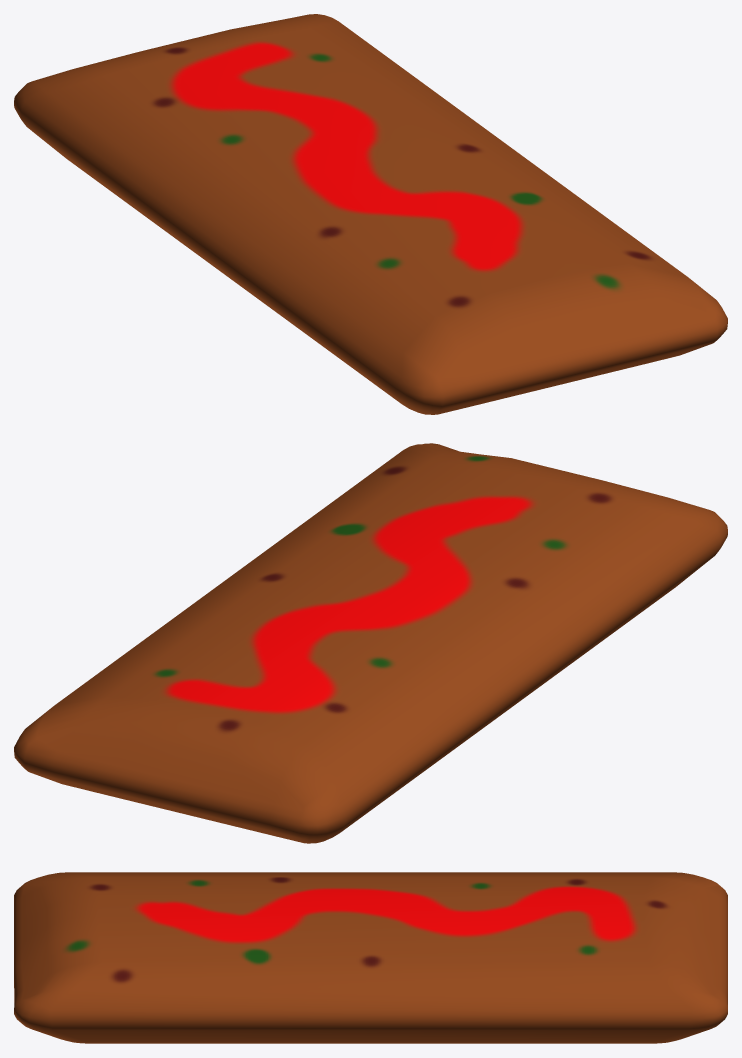
The model's file is pastel_fbx.fbx.
3 views of the same model, one above another, from view 1: azimuth 30°, elevation 25°; view 2: azimuth 150°, elevation 25°; view 3: azimuth 270°, elevation 25° (orthographic). The views are drawn at different scales.
Parts seen in each view (by area): view 1: Cube; view 2: Cube; view 3: Cube.
Part boxes in pixels (<box>): Cube: <box>14,14,727,414</box>; Cube: <box>14,443,727,843</box>; Cube: <box>14,872,727,1043</box>.
Bounding box in the file's own units: 179 × 49.75 × 401.
1 material, 1 textured.
